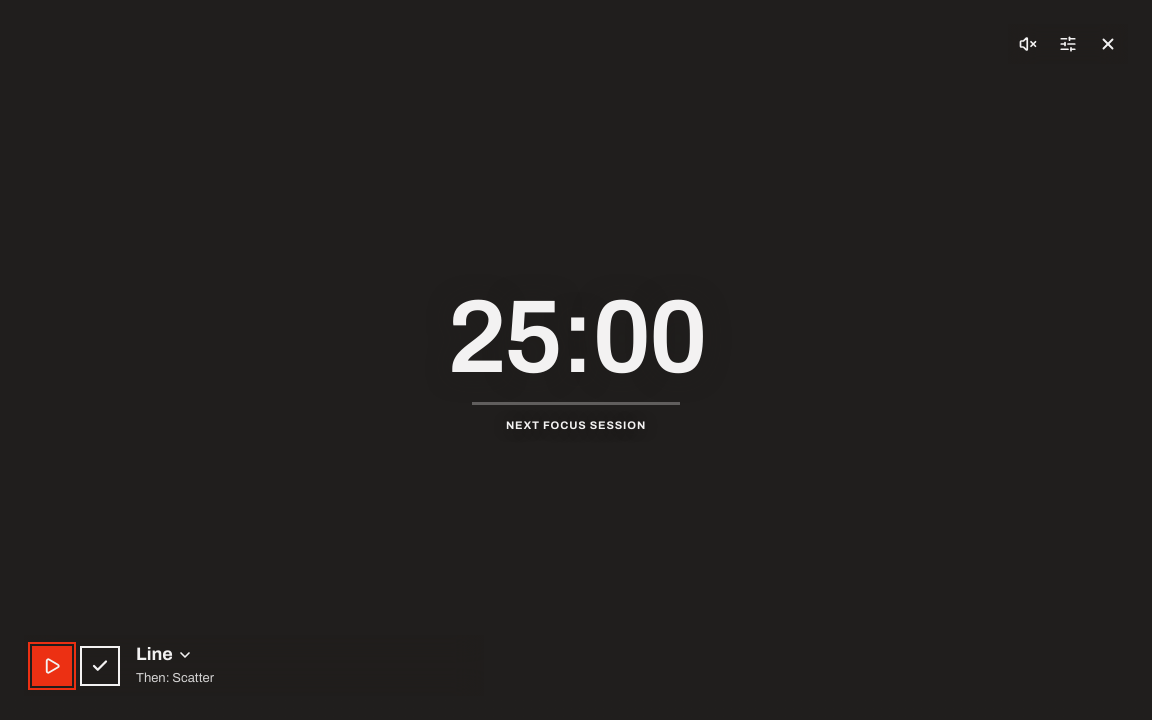
Test case: FocusMode › plays a pasted link and rejects junk
Click the button with class "fm-settings-btn".
click(1068, 44)  # box x1=1048 y1=24 x2=1088 y2=64
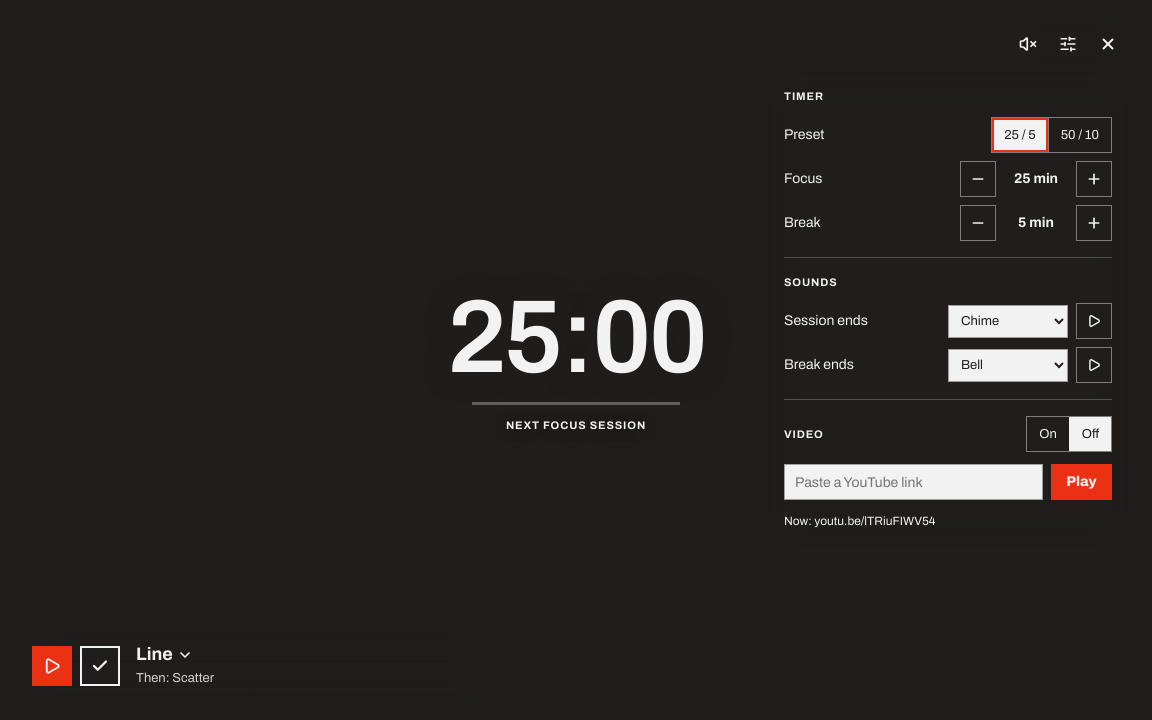
Type "hello" into the field with class "fm-input".
click(913, 482); type("hello")  # box x1=784 y1=464 x2=1043 y2=500
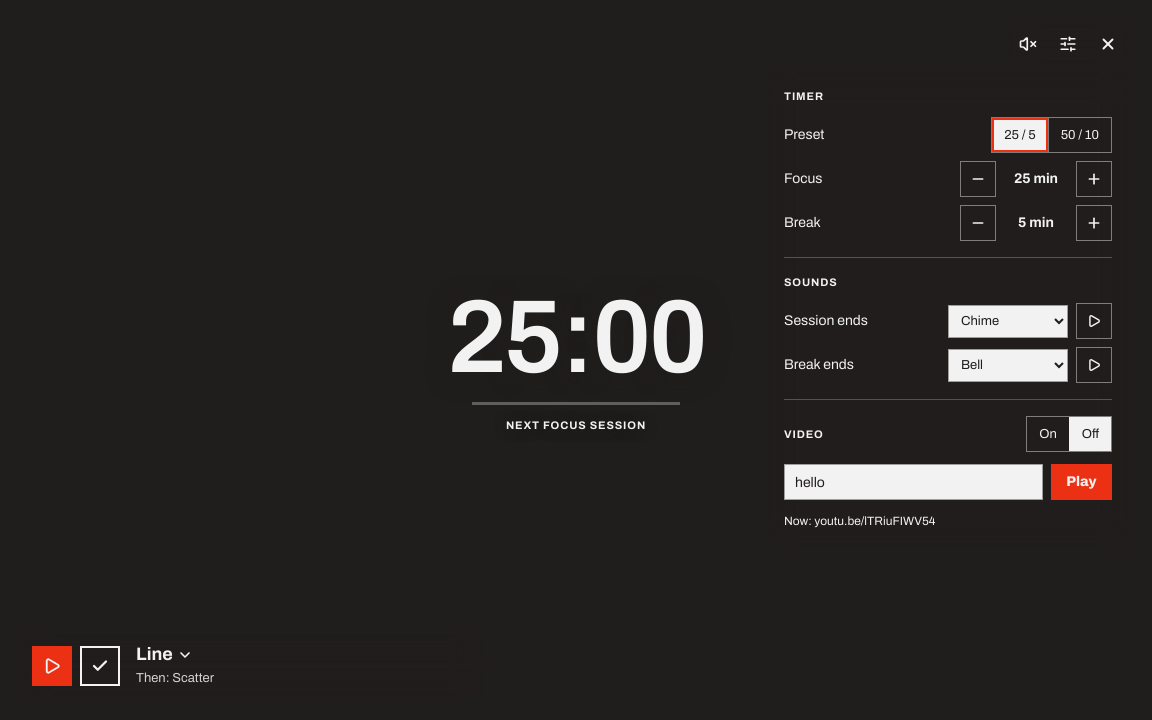
Click the button with class "fm-play".
click(1081, 482)  # box x1=1051 y1=464 x2=1112 y2=500
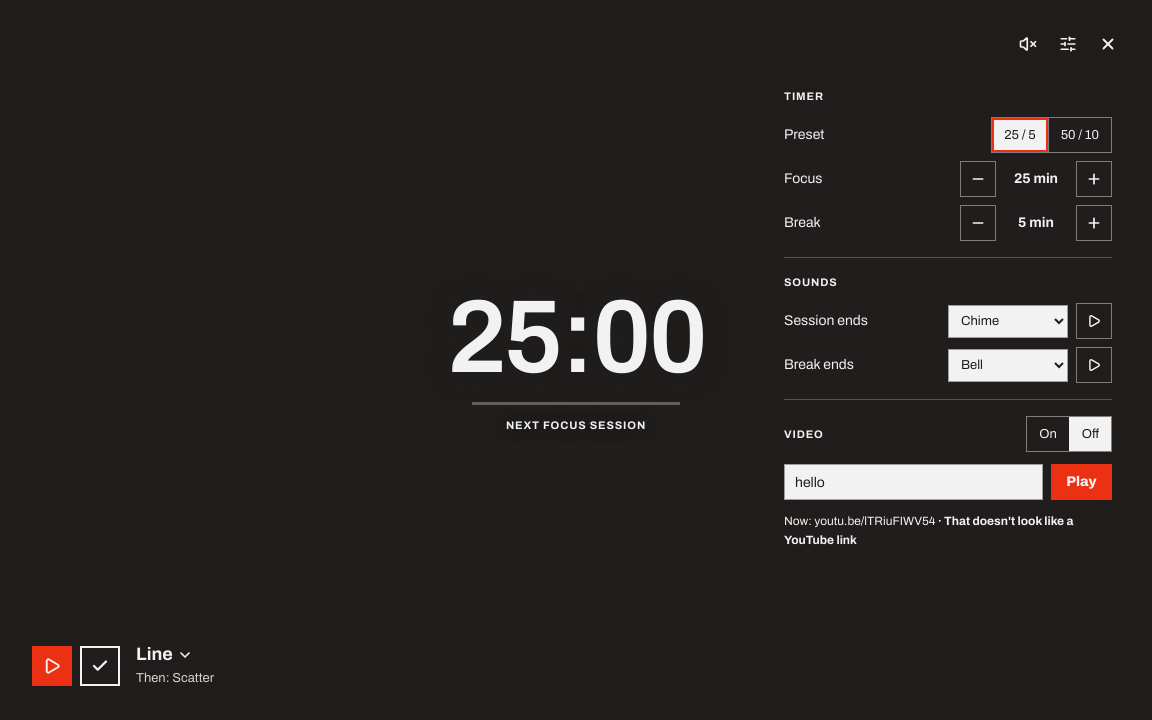
Expected: the element with class "fm-now" reads "Now: youtu.be/lTRiuFIWV54 · That doesn't look like a YouTube link", x1=784 y1=512 x2=1112 y2=550
Replace the text in the field with class "fm-input" with "https://youtu.be/dQw4w9WgXcQ" at (913, 482), box x1=784 y1=464 x2=1043 y2=500
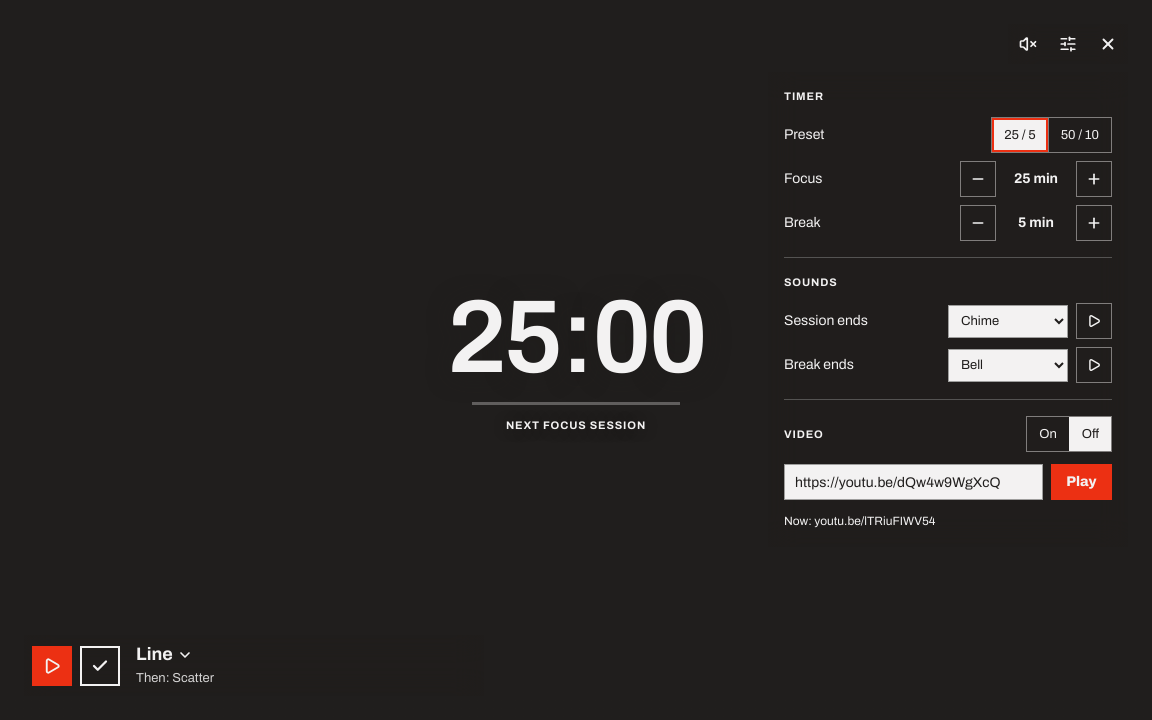
Expected: the text with class "fm-now" reads "Now: youtu.be/lTRiuFIWV54", x1=784 y1=514 x2=935 y2=528
Press Enter in the field with class "fm-input", box x1=784 y1=464 x2=1043 y2=500
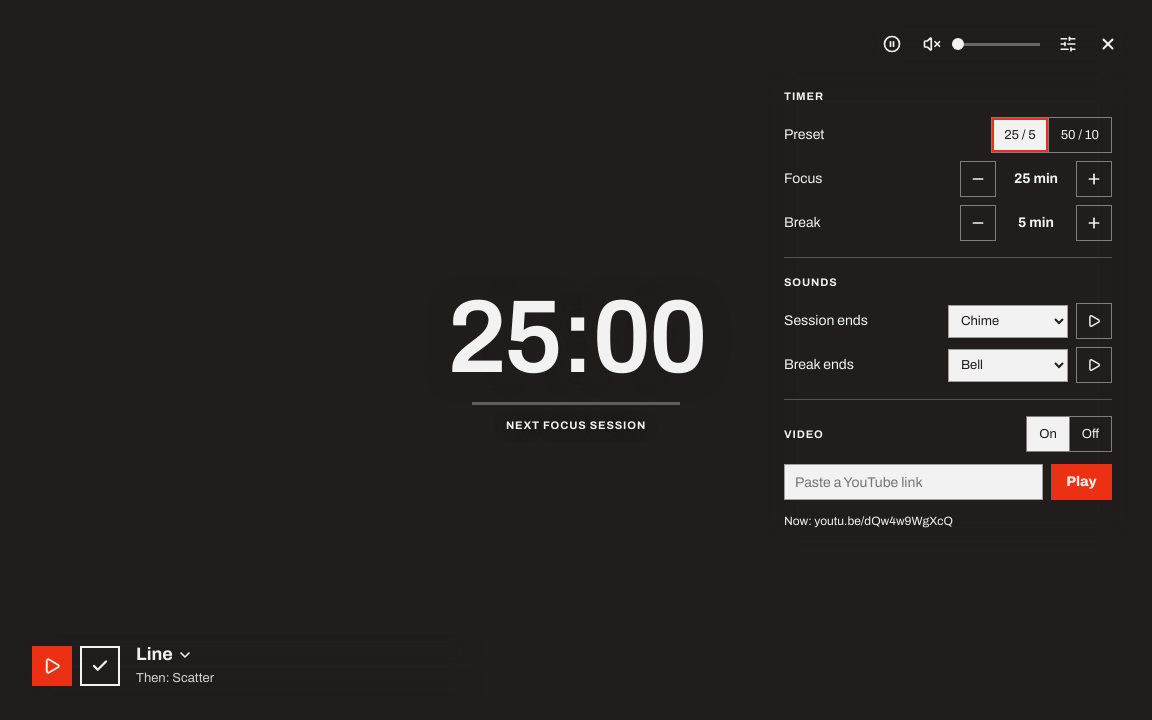
Expected: the text with class "fm-now" reads "Now: youtu.be/dQw4w9WgXcQ", x1=784 y1=514 x2=953 y2=528
Expected: the field with class "fm-input" is empty, x1=784 y1=464 x2=1043 y2=500
